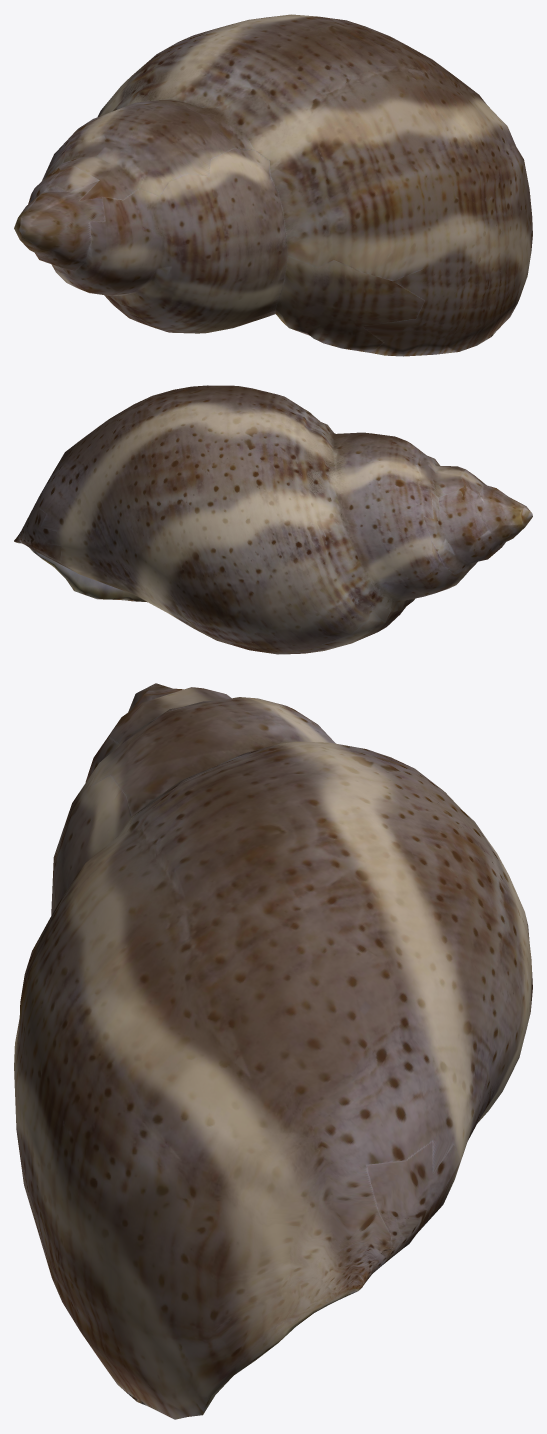
Rendered from Babylonia spirata.fbx.
3 renders of one model, top to bottom at view 1: azimuth 30°, elevation 25°; view 2: azimuth 150°, elevation 25°; view 3: azimuth 270°, elevation 25°, orthographic. The views are drawn at different scales.
Visible parts, largest first — view 1: PRI_PoriferaClionaBoringOnGastropoda; view 2: PRI_PoriferaClionaBoringOnGastropoda; view 3: PRI_PoriferaClionaBoringOnGastropoda.
Part boxes in pixels (box(x1,y1,x2,y2)): PRI_PoriferaClionaBoringOnGastropoda: box(14, 14, 532, 356); PRI_PoriferaClionaBoringOnGastropoda: box(14, 385, 532, 654); PRI_PoriferaClionaBoringOnGastropoda: box(14, 683, 532, 1419).
Size of the model in its own units: 1.45 by 0.7976 by 0.7563.
1 material, 1 textured.
